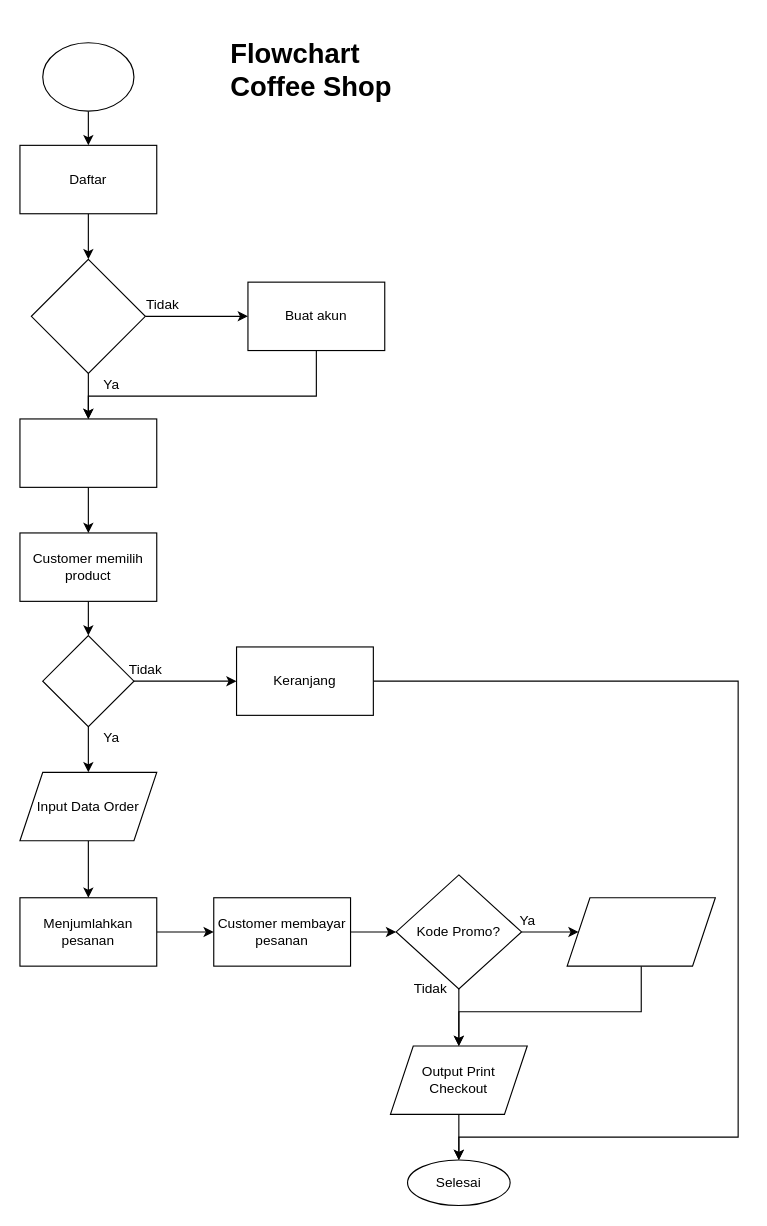
Some shapes in this 767 by 1226 pixel diagram are drawn without their labels. Here are the shapes that lost their labels. From the top down, the box of each, then its label:
(42, 42, 134, 111): Mulai
(30, 258, 145, 373): Memiliki akun ?
(19, 418, 157, 487): Login
(42, 634, 134, 727): Beli?
(566, 897, 715, 966): Input Kode Promo
